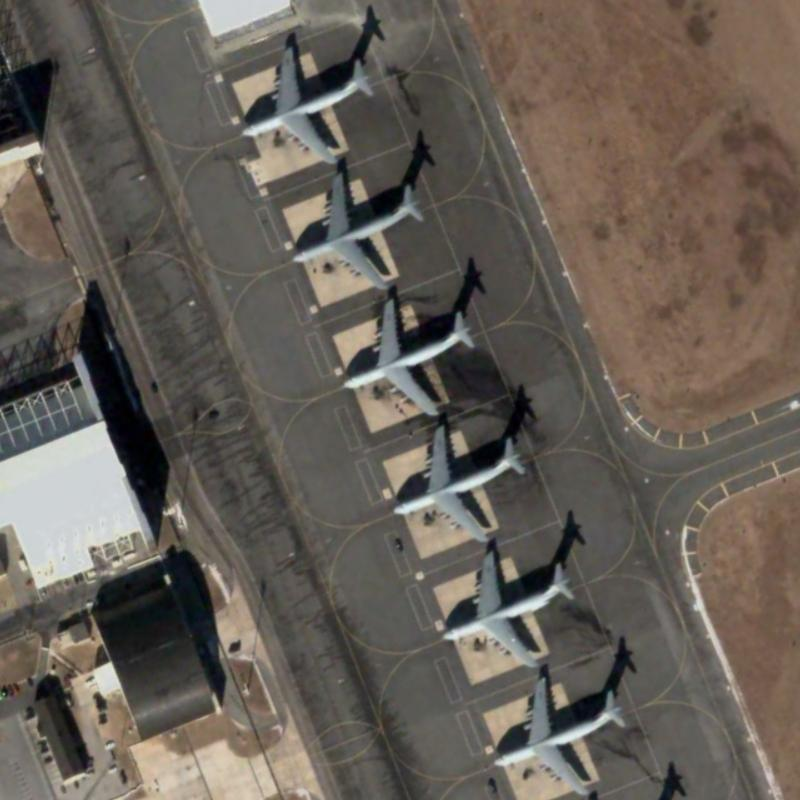A4: (432, 543, 578, 673), (338, 292, 478, 421), (389, 421, 529, 546), (286, 167, 429, 289), (236, 39, 377, 162), (489, 672, 630, 795)
